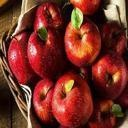apple: (32, 80, 56, 124)
